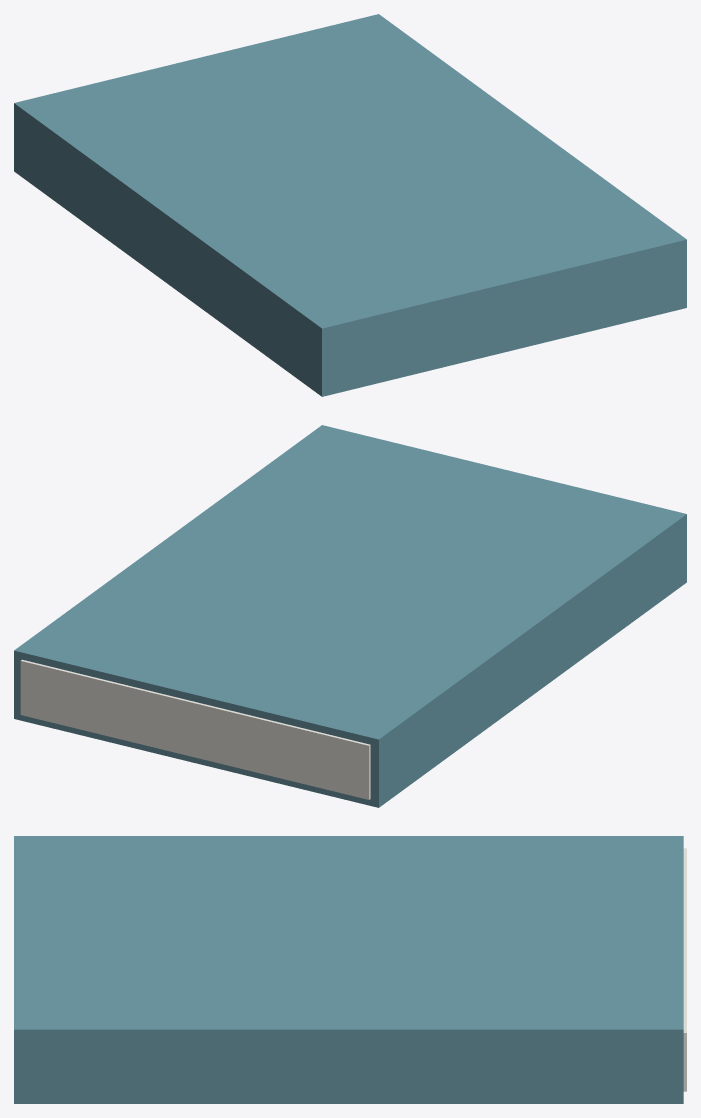
File: book.glb
3 renders of one model, top to bottom at view 1: azimuth 30°, elevation 25°; view 2: azimuth 150°, elevation 25°; view 3: azimuth 270°, elevation 25°, orthographic. The views are drawn at different scales.
Parts seen in each view (by area): view 1: book; view 2: book; view 3: book.
Boxes of the visible parts, x1,y1,x2,y2 form: book: (14,14,686,396); book: (14,425,686,807); book: (14,836,686,1103).
Bounding box in the file's own units: 0.134 × 0.024 × 0.197.
